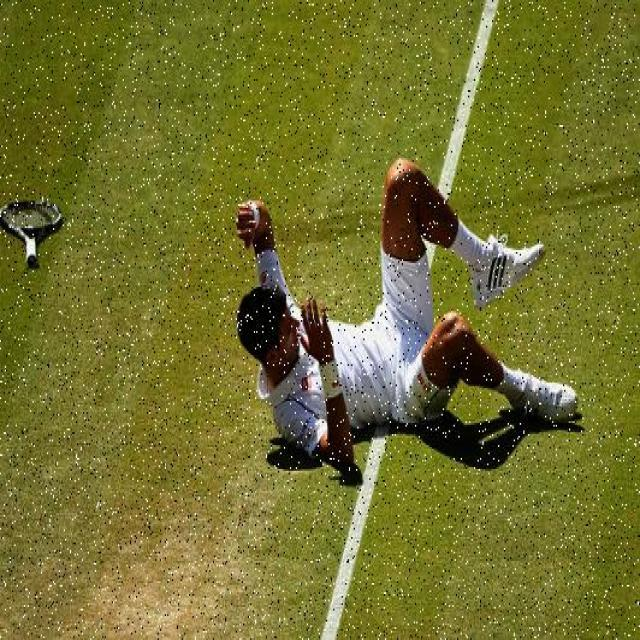fall: (236, 182, 558, 473)
